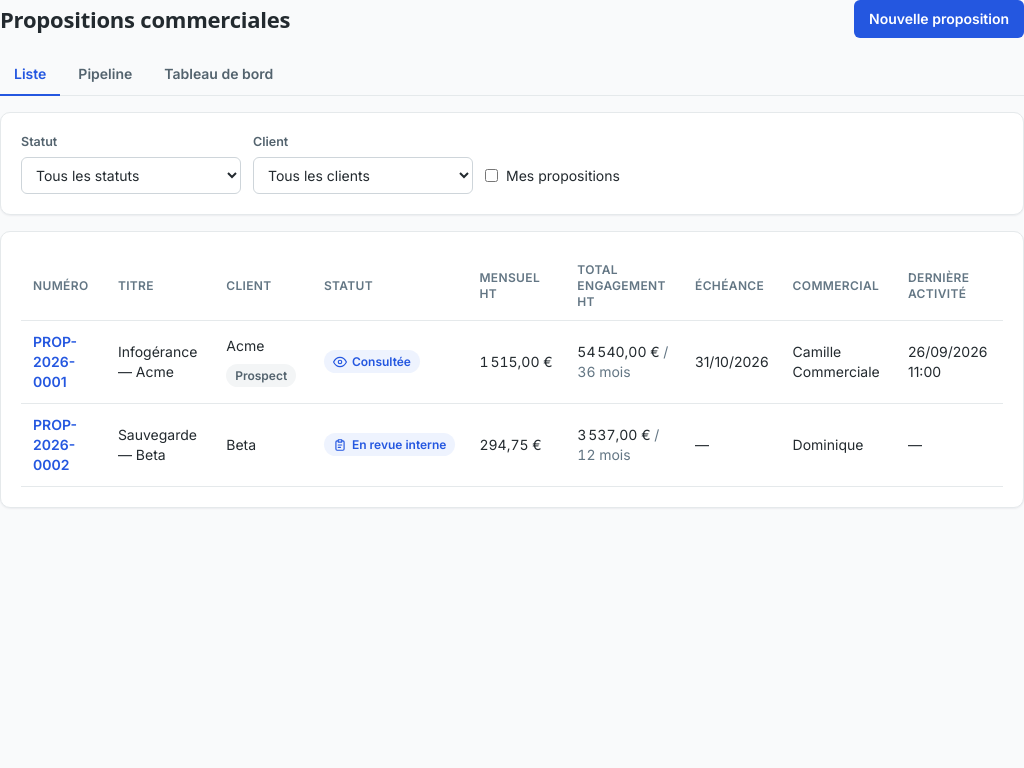
Test case: erreur serveur (detail) affichée dans la boîte de création
Click the button "Nouvelle proposition" at x=939, y=19, box top-left (854, 0), bottom-right (1023, 38)
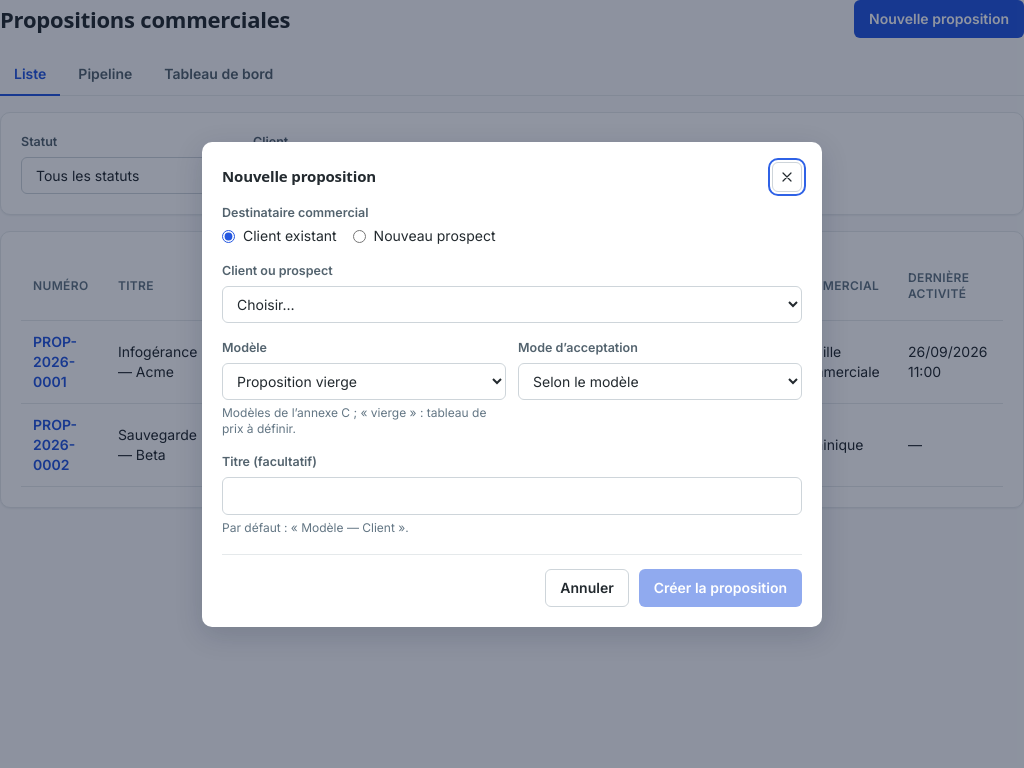
Select "Beta" in the dropdown labelled "Client ou prospect" at x=512, y=304, box top-left (222, 286), bottom-right (802, 323)
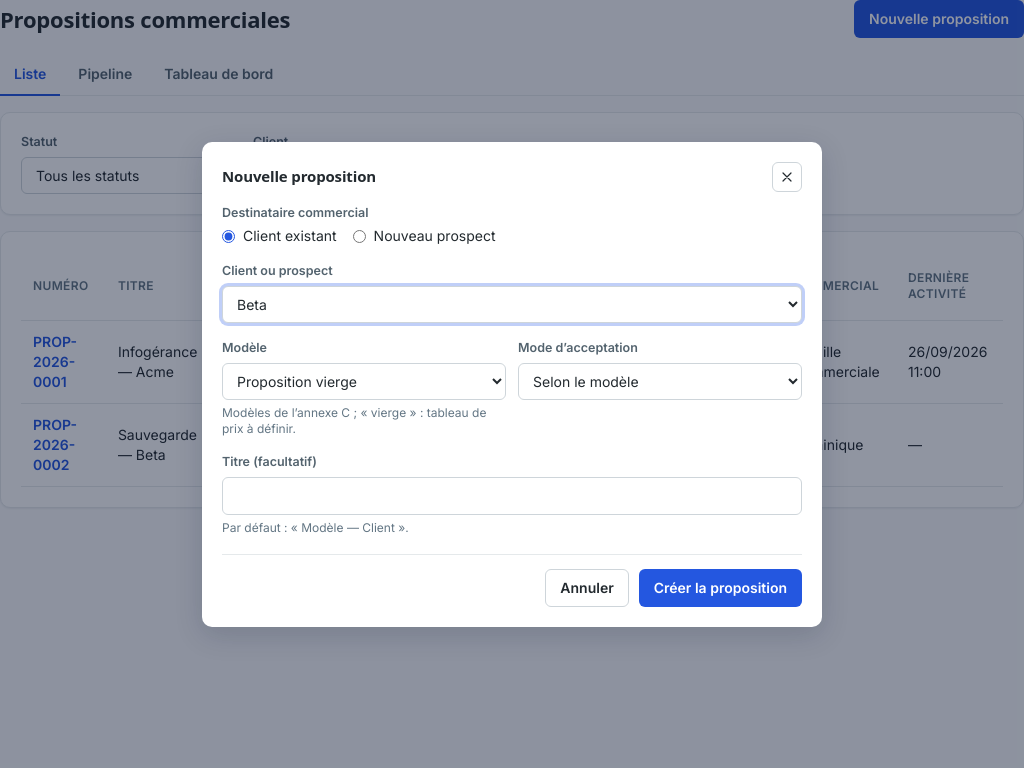
Click the button "Créer la proposition" at x=720, y=588, box top-left (639, 568), bottom-right (802, 606)
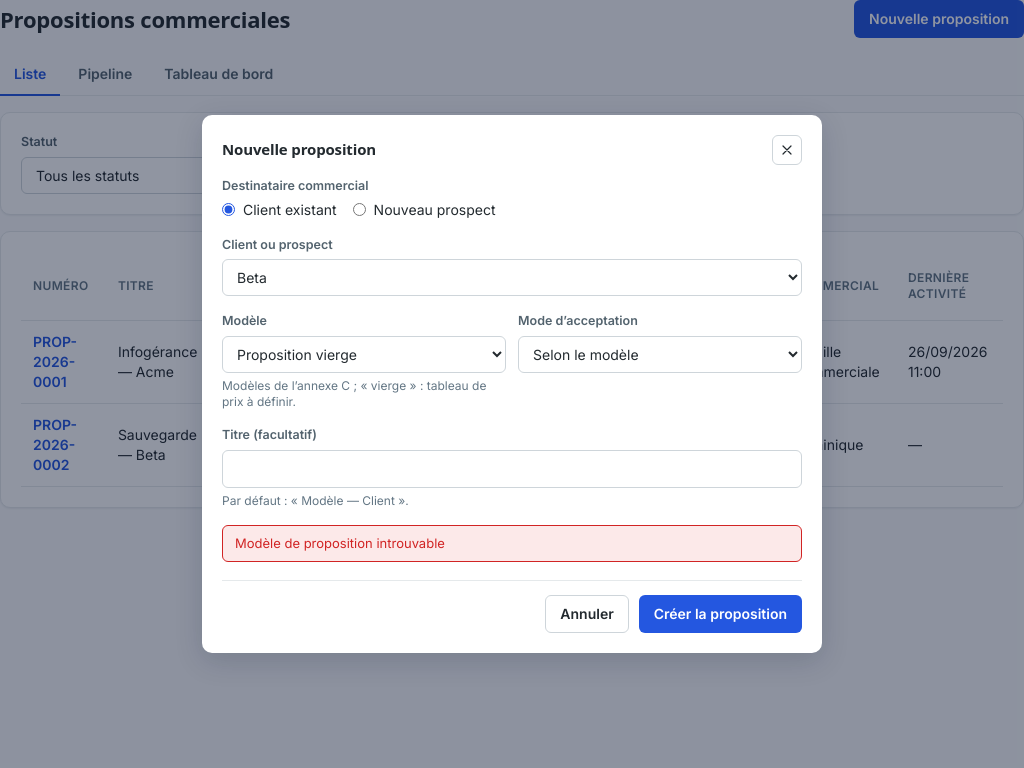
Expected: the message reads "Modèle de proposition introuvable", top-left (235, 535), bottom-right (445, 551)
